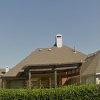Chimney: (51, 29, 69, 54)
